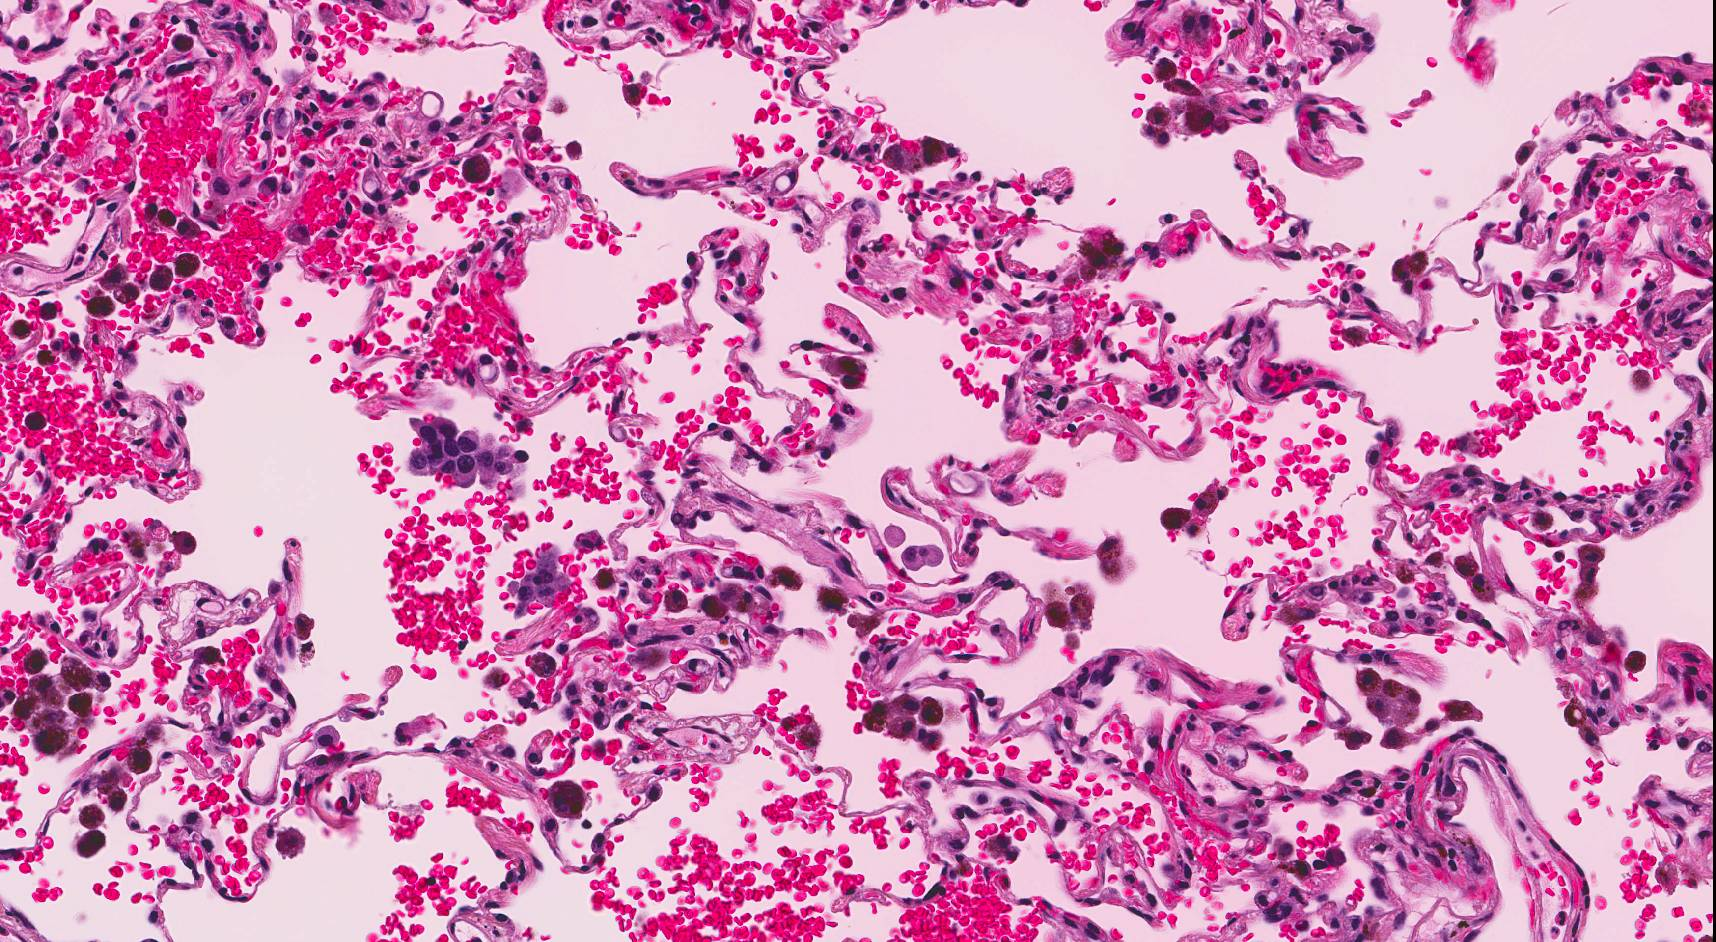stas: (400, 411, 523, 498), (507, 545, 572, 615)
